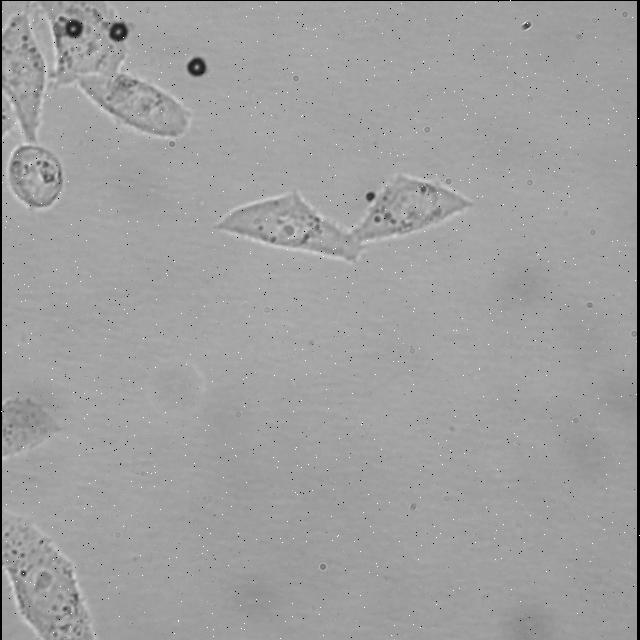microbeads: (64, 16, 86, 36), (110, 20, 134, 38), (190, 56, 208, 76)
